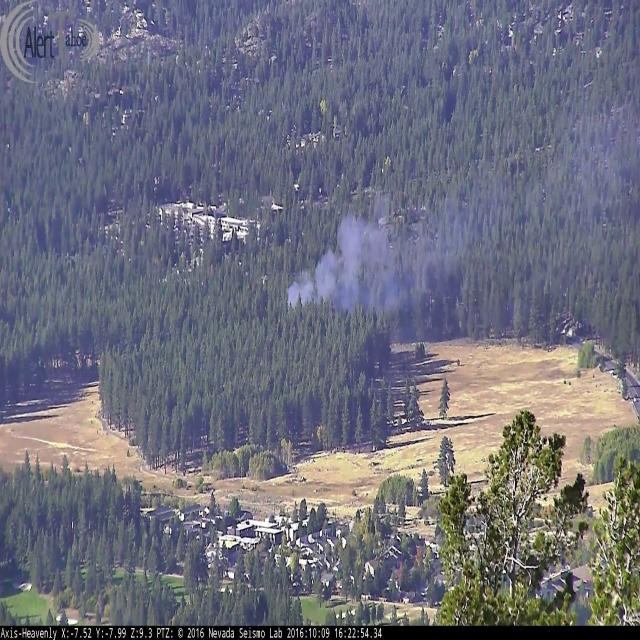smoke: (279, 183, 517, 334)
